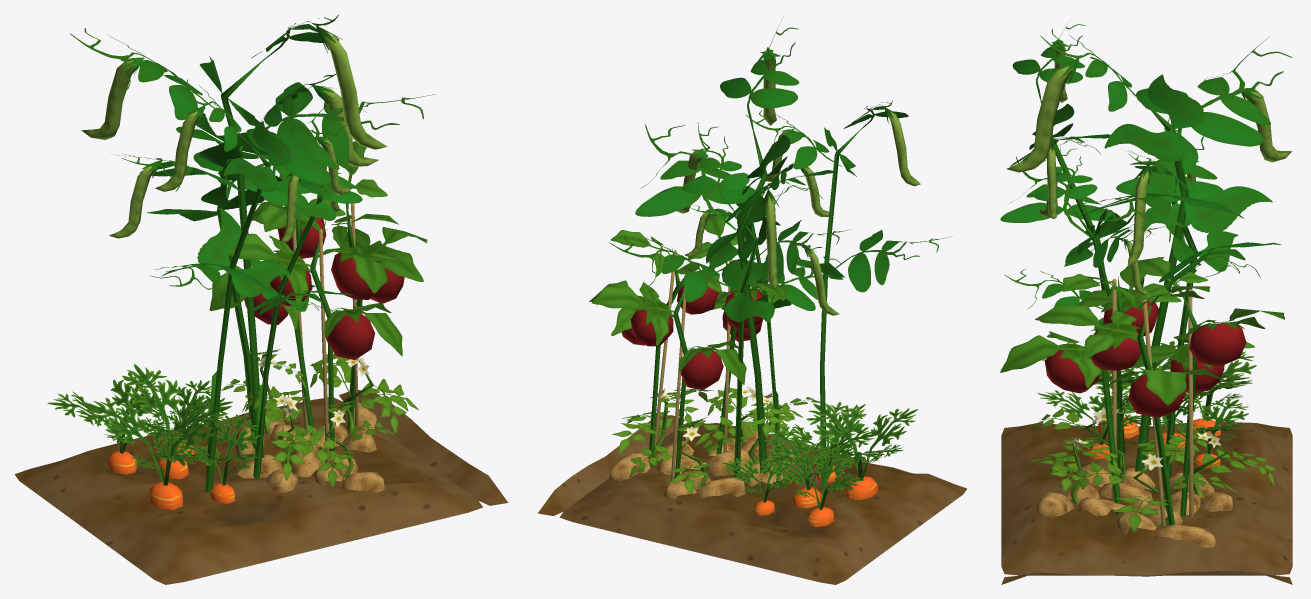
The model's file is plants.glb.
3 renders of one model, left to right at view 1: azimuth 30°, elevation 25°; view 2: azimuth 150°, elevation 25°; view 3: azimuth 270°, elevation 25°, orthographic. The views are drawn at different scales.
Visible parts, largest first — view 1: Bed, Peas_Plants_0, Tomato_Plants_0, Peas_Plants_0.001, Carrot_Plants_0, Potato_Plants_0; view 2: Bed, Peas_Plants_0, Tomato_Plants_0, Peas_Plants_0.001, Potato_Plants_0, Carrot_Plants_0; view 3: Bed, Peas_Plants_0, Tomato_Plants_0, Potato_Plants_0, Peas_Plants_0.001, Carrot_Plants_0.
Part boxes in pixels (left/top/right/bottom): Bed: left=14, top=390, right=508, bottom=584; Peas_Plants_0: left=70, top=14, right=434, bottom=492; Tomato_Plants_0: left=209, top=141, right=427, bottom=462; Peas_Plants_0.001: left=109, top=73, right=378, bottom=478; Carrot_Plants_0: left=47, top=364, right=259, bottom=509; Potato_Plants_0: left=221, top=349, right=418, bottom=492; Bed: left=537, top=415, right=966, bottom=584; Peas_Plants_0: left=635, top=18, right=951, bottom=486; Tomato_Plants_0: left=589, top=212, right=787, bottom=480; Peas_Plants_0.001: left=609, top=122, right=852, bottom=478; Potato_Plants_0: left=609, top=386, right=834, bottom=498; Carrot_Plants_0: left=722, top=401, right=918, bottom=527; Bed: left=1001, top=421, right=1292, bottom=584; Peas_Plants_0: left=1000, top=24, right=1292, bottom=473; Tomato_Plants_0: left=1000, top=257, right=1284, bottom=526; Potato_Plants_0: left=1024, top=407, right=1275, bottom=547; Peas_Plants_0.001: left=1004, top=117, right=1281, bottom=486; Carrot_Plants_0: left=1037, top=341, right=1256, bottom=468.
Bounding box in the file's own units: 0.7131 × 0.9834 × 0.5557.
Materials: 2 (2 with a texture image).
